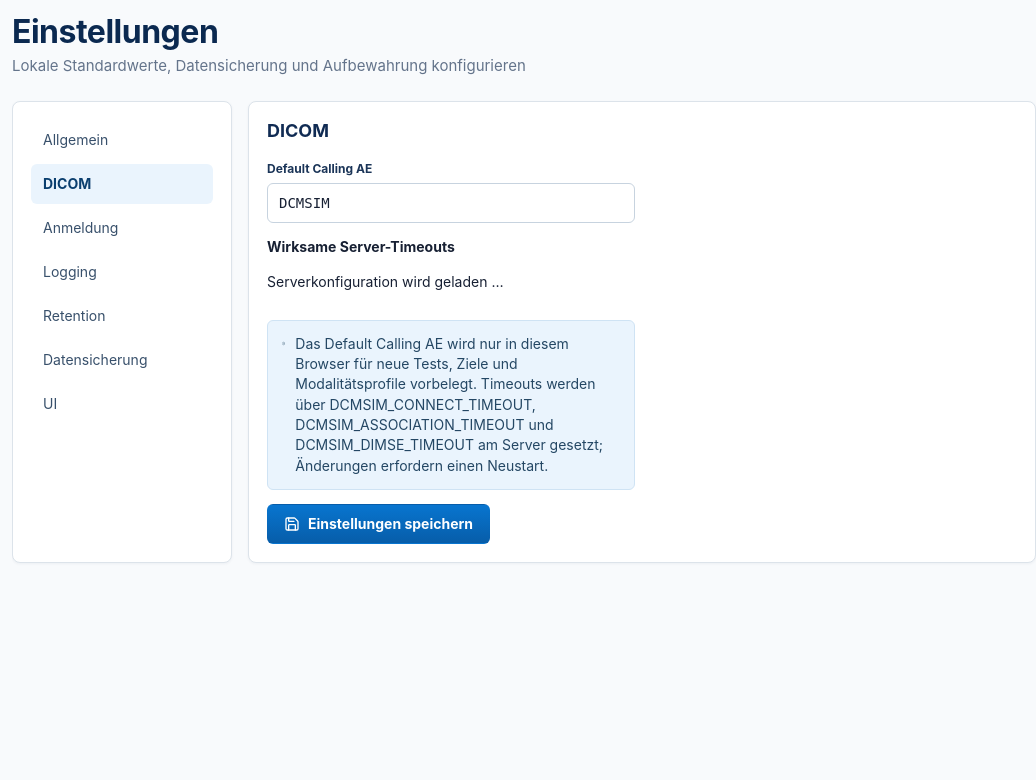
it: purges history using the configured retention without a scheduler
Click the button "Retention".
click(122, 316)  # box [31,296,213,336]
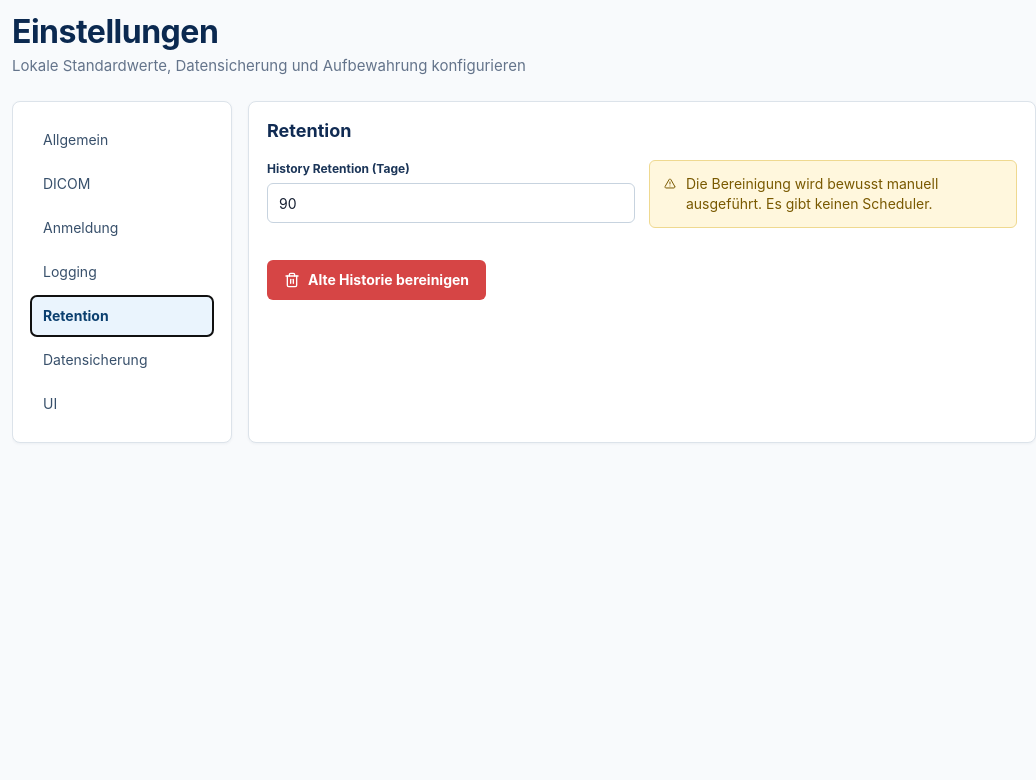
Click the button "Alte Historie bereinigen".
click(377, 280)  # box [267,260,486,300]
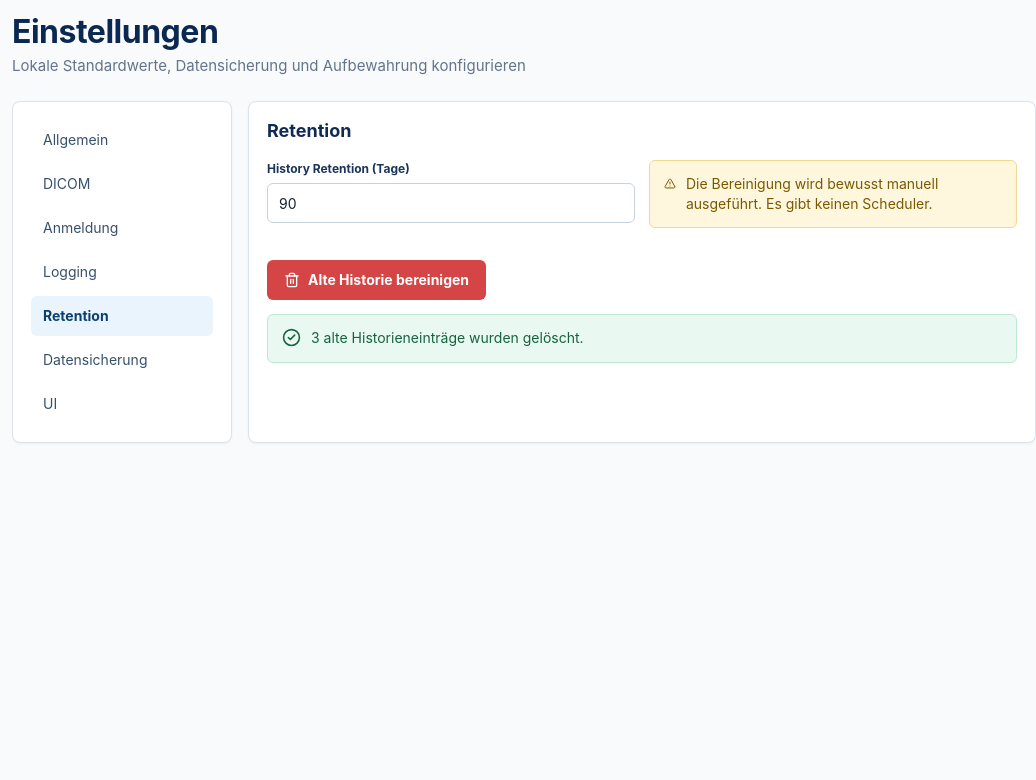
Result: the text "3 alte Historieneinträge wurden gelöscht." is shown at [311,328,584,349]
